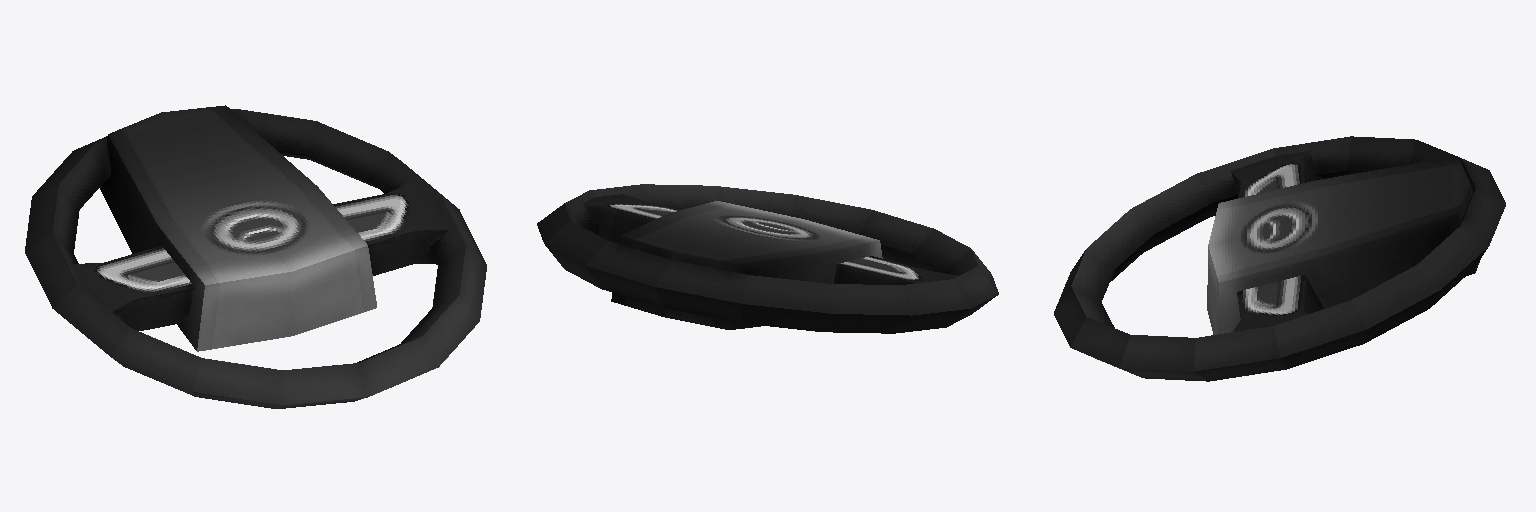
3 views of the same model, side by side, from view 1: azimuth 30°, elevation 25°; view 2: azimuth 150°, elevation 25°; view 3: azimuth 270°, elevation 25° (orthographic).
Visible parts, largest first — view 1: Steering_Wheel; view 2: Steering_Wheel; view 3: Steering_Wheel.
Part boxes in pixels (bbox=[...]): Steering_Wheel: bbox=[25, 105, 486, 408]; Steering_Wheel: bbox=[537, 184, 998, 333]; Steering_Wheel: bbox=[1054, 136, 1505, 381].
Size of the model in its own units: 36.17 by 12.58 by 34.89.
Materials: 1 (1 with a texture image).